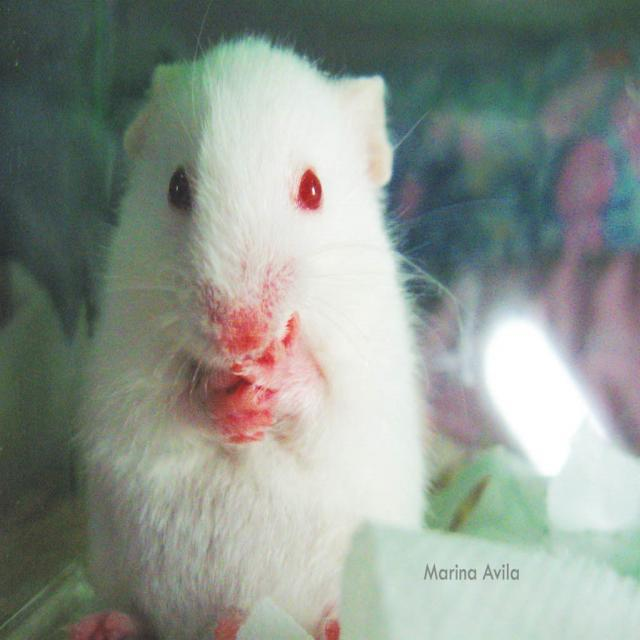rat: (67, 1, 465, 640)
